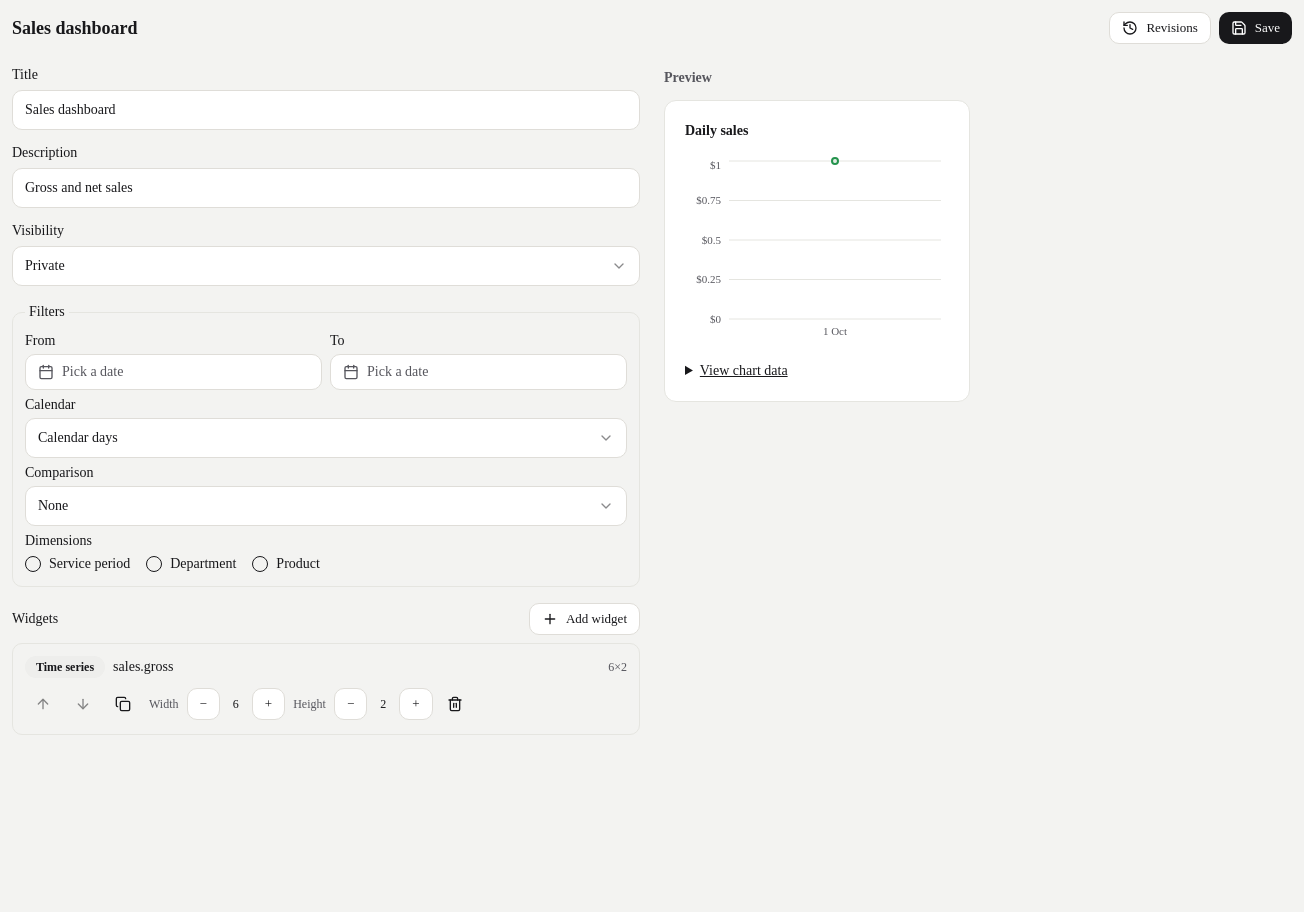
Test case: DashboardEditor › loads the persisted document and saves edits through updateDashboard
Expected: the heading "Sales dashboard" is shown, top-left (12, 14), bottom-right (138, 42)
Expected: the field showing "Gross and net sales" is shown, top-left (12, 168), bottom-right (640, 208)
Replace the text in the field labelled "Title" with "New title" at {"x": 326, "y": 110}, box top-left (12, 90), bottom-right (640, 130)
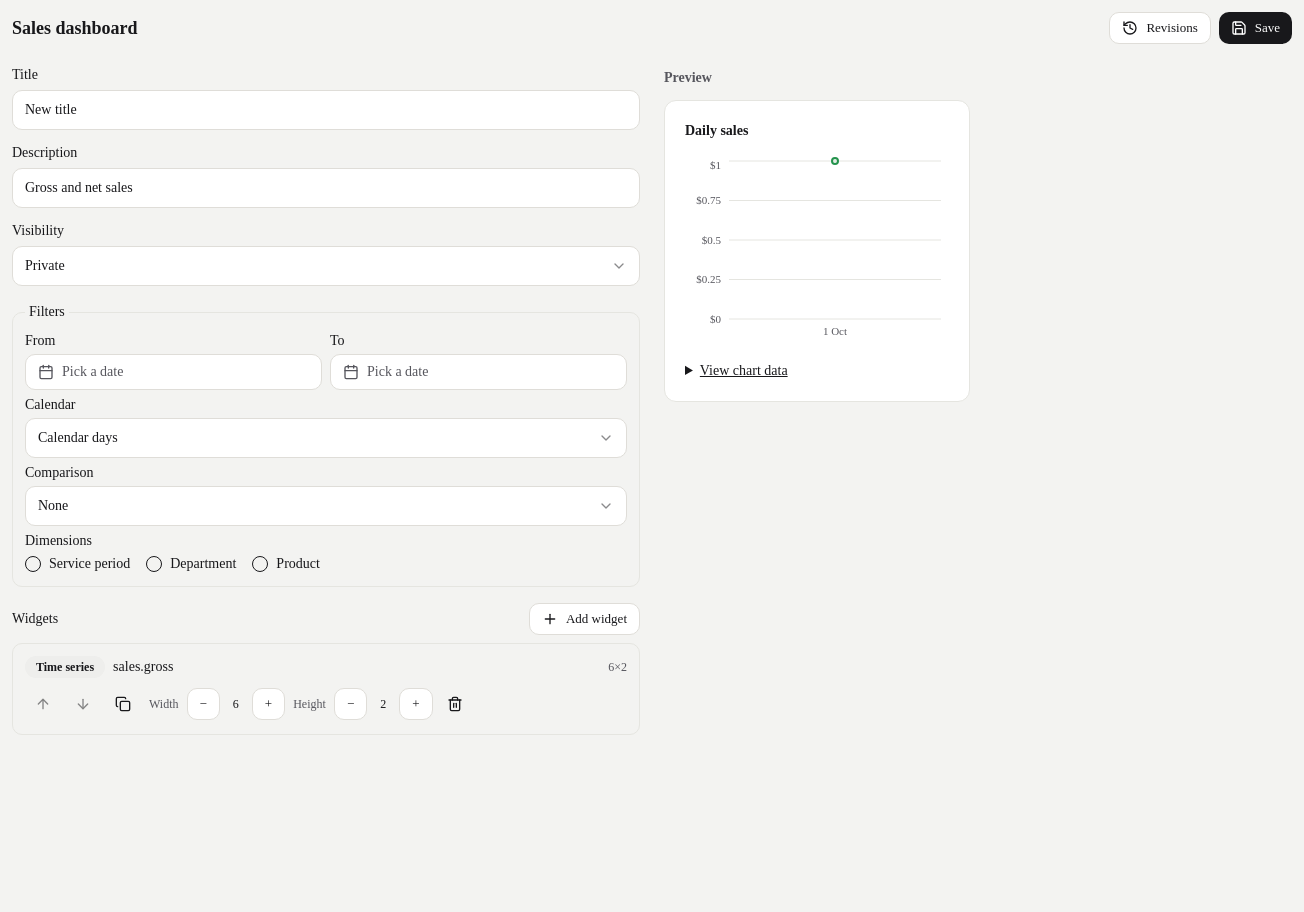
Click the button "Save" at {"x": 1255, "y": 28}, box top-left (1219, 12), bottom-right (1292, 44)
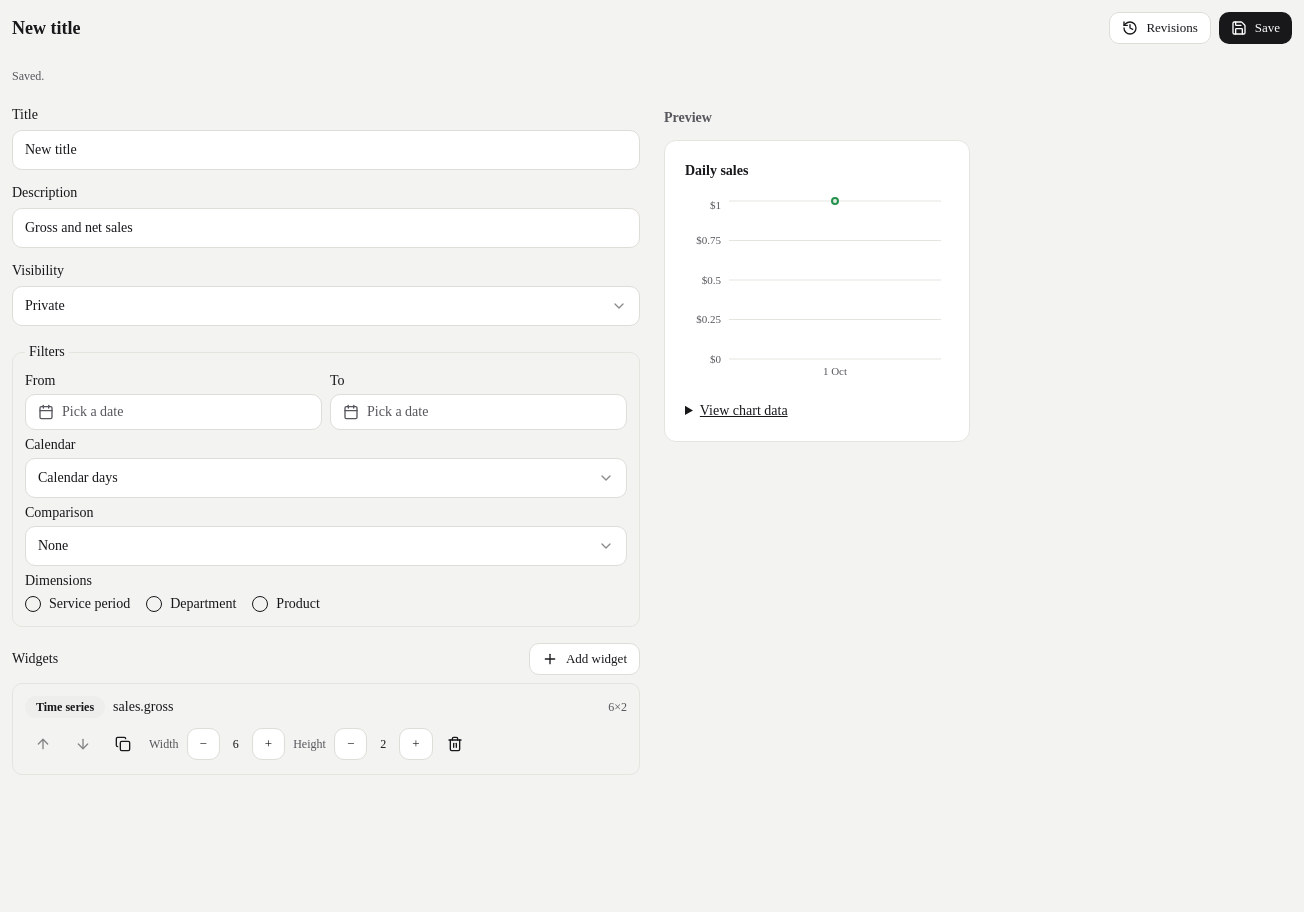
Expected: the text "Saved." is shown, top-left (12, 69), bottom-right (44, 83)
